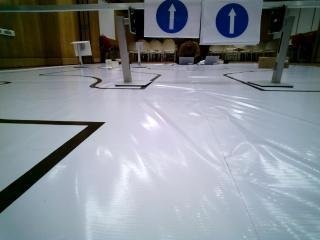straight: (202, 0, 257, 46), (145, 0, 197, 39)
